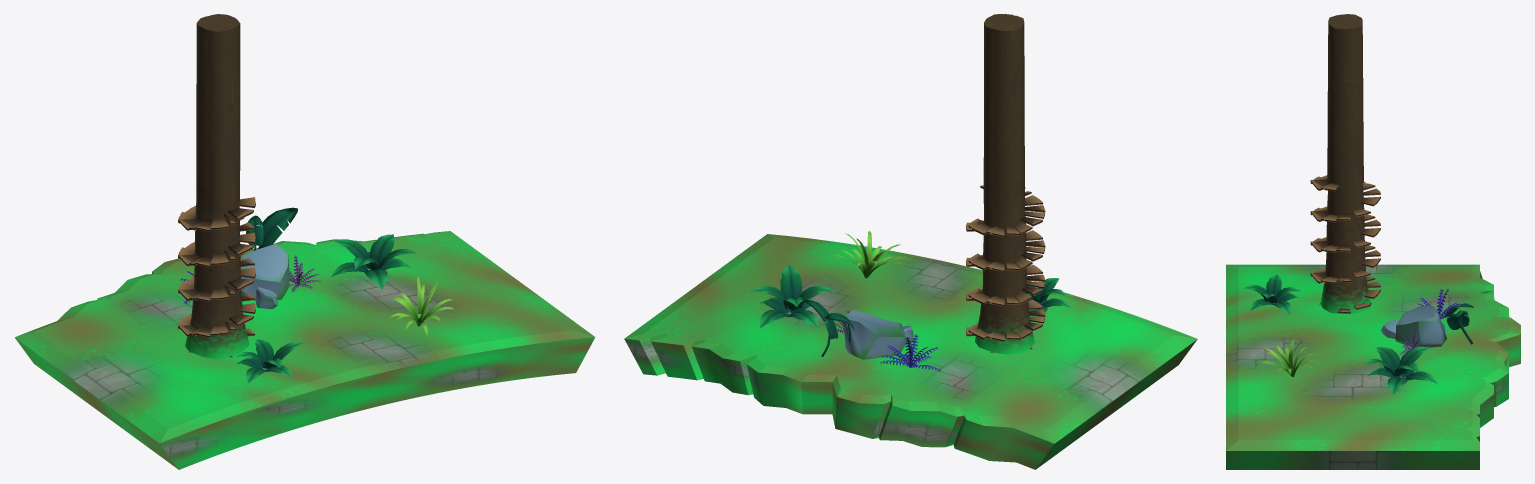
The model's file is world.FBX.
3 views of the same model, side by side, from view 1: azimuth 30°, elevation 25°; view 2: azimuth 150°, elevation 25°; view 3: azimuth 270°, elevation 25° (orthographic). The views are drawn at different scales.
Parts seen in each view (by area): view 1: Plane127, Cylinder041, Cylinder040, Box052, Box055, Box056, Box054, Box049, Plane101; view 2: Plane127, Cylinder041, Cylinder040, Box052, Box055, Box056, Box054, Box049, leaf023; view 3: Plane127, Cylinder041, Cylinder040, Box052, Box055, Box056, Box054, Box049, Plane101, leaf018.
Part boxes in pixels (x1=…): Plane127: x1=15, y1=231, x2=595, y2=469; Cylinder041: x1=196, y1=14, x2=240, y2=213; Cylinder040: x1=185, y1=203, x2=249, y2=358; Box052: x1=240, y1=243, x2=289, y2=300; Box055: x1=178, y1=197, x2=255, y2=231; Box056: x1=178, y1=232, x2=255, y2=267; Box054: x1=178, y1=267, x2=255, y2=301; Box049: x1=178, y1=303, x2=255, y2=337; Plane101: x1=257, y1=207, x2=297, y2=248; Plane127: x1=624, y1=234, x2=1197, y2=469; Cylinder041: x1=983, y1=14, x2=1024, y2=210; Cylinder040: x1=975, y1=202, x2=1037, y2=354; Box052: x1=843, y1=310, x2=907, y2=359; Box055: x1=966, y1=185, x2=1045, y2=237; Box056: x1=966, y1=220, x2=1045, y2=272; Box054: x1=966, y1=255, x2=1045, y2=306; Box049: x1=966, y1=299, x2=1045, y2=341; leaf023: x1=780, y1=264, x2=801, y2=299; Plane127: x1=1226, y1=264, x2=1520, y2=469; Cylinder041: x1=1327, y1=14, x2=1363, y2=188; Cylinder040: x1=1319, y1=185, x2=1371, y2=313; Box052: x1=1395, y1=306, x2=1446, y2=347; Box055: x1=1310, y1=175, x2=1380, y2=220; Box056: x1=1310, y1=206, x2=1380, y2=252; Box054: x1=1310, y1=237, x2=1380, y2=282; Box049: x1=1310, y1=268, x2=1380, y2=313; Plane101: x1=1446, y1=310, x2=1472, y2=344; leaf018: x1=1376, y1=347, x2=1400, y2=372.
Bounding box in the file's own units: 27.71 × 22.52 × 18.54.
9 materials, 7 textured.
